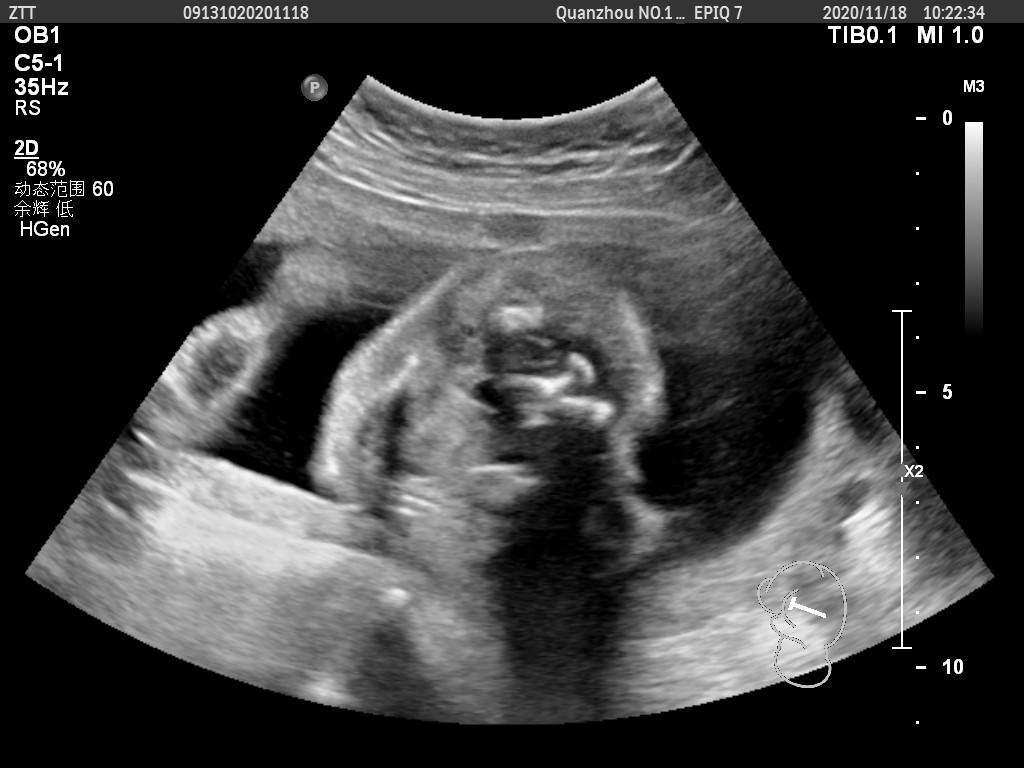肌瘤: (483, 212, 547, 245)
